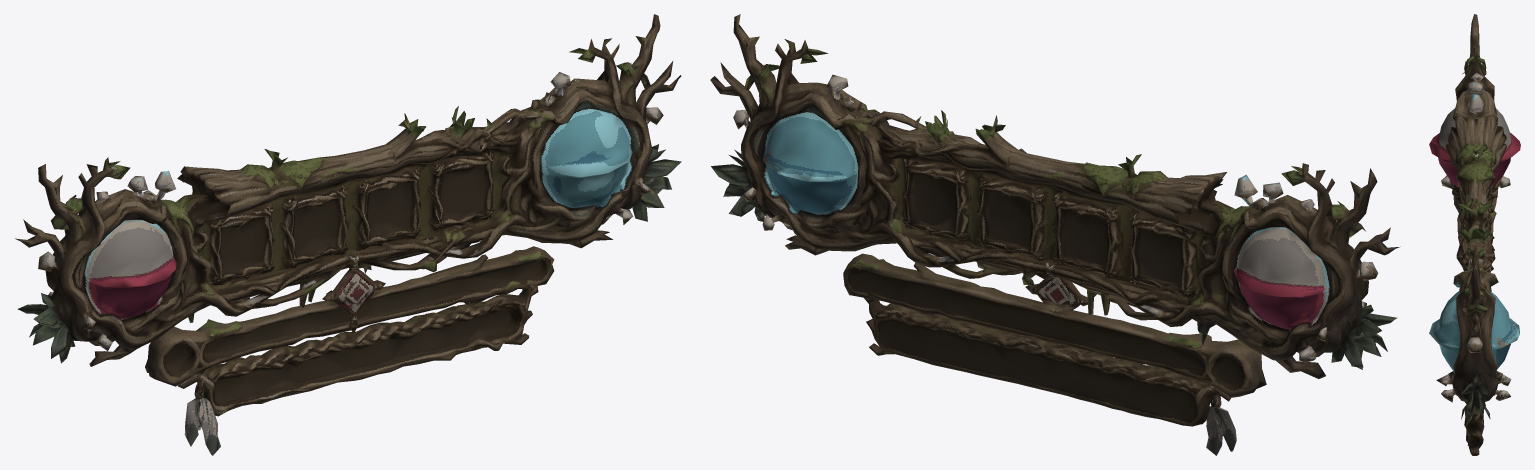
The model's file is hud_inti.glb.
3 renders of one model, left to right at view 1: azimuth 30°, elevation 25°; view 2: azimuth 150°, elevation 25°; view 3: azimuth 270°, elevation 25°, orthographic. The views are drawn at different scales.
Parts seen in each view (by area): view 1: tripo_node_09d4f8a3-4723-4662-b436-24ebf49165c8; view 2: tripo_node_09d4f8a3-4723-4662-b436-24ebf49165c8; view 3: tripo_node_09d4f8a3-4723-4662-b436-24ebf49165c8.
Boxes of the visible parts, x1,y1,x2,y2 form: tripo_node_09d4f8a3-4723-4662-b436-24ebf49165c8: (15,14,681,455); tripo_node_09d4f8a3-4723-4662-b436-24ebf49165c8: (710,14,1400,455); tripo_node_09d4f8a3-4723-4662-b436-24ebf49165c8: (1429,14,1520,455).
Size of the model in its own units: 2.15 by 1 by 0.3063.
1 material, 1 textured.
